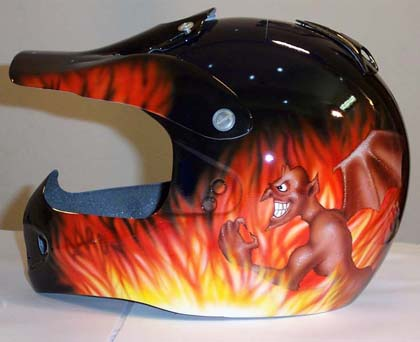helmet: (40, 14, 393, 309)
